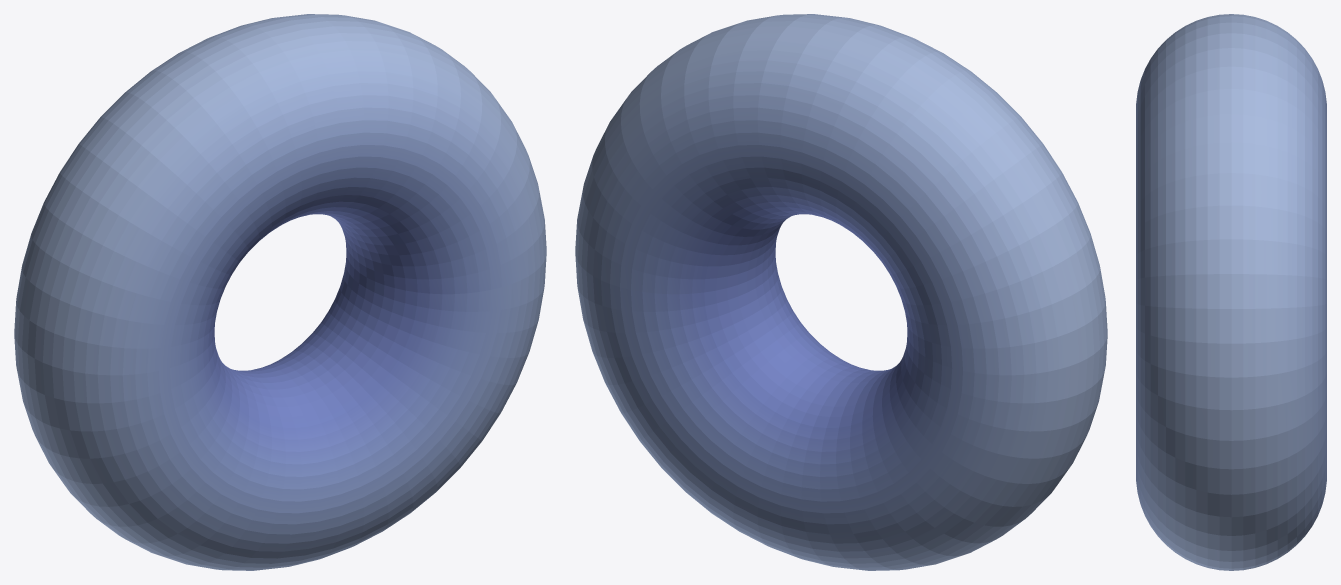
The picture shows the model from 3 angles, left to right: view 1: azimuth 30°, elevation 25°; view 2: azimuth 150°, elevation 25°; view 3: azimuth 270°, elevation 25°; orthographic projection. The views are drawn at different scales.
Parts seen in each view (by area): view 1: world; view 2: world; view 3: world.
Boxes of the visible parts, left/top/right/bottom form: world: left=14, top=14, right=546, bottom=570; world: left=575, top=14, right=1107, bottom=570; world: left=1136, top=14, right=1326, bottom=570.
Bounding box in the file's own units: 18.27 × 18.23 × 6.25.
